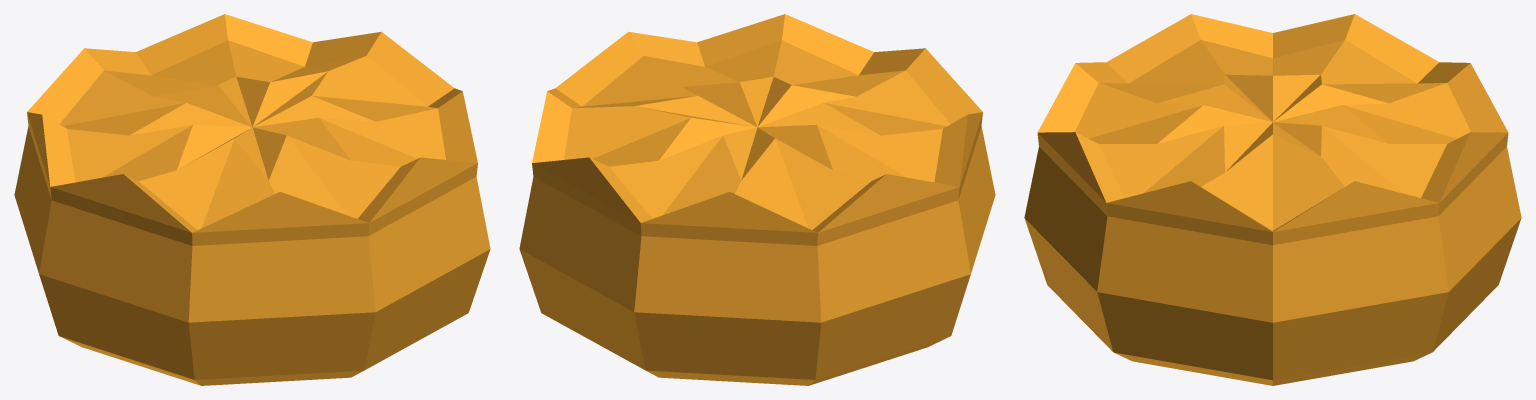
File: SM_Pie_Meat.fbx
The picture shows the model from 3 angles, left to right: view 1: azimuth 30°, elevation 25°; view 2: azimuth 150°, elevation 25°; view 3: azimuth 270°, elevation 25°; orthographic projection.
Parts seen in each view (by area): view 1: pie-meat; view 2: pie-meat; view 3: pie-meat.
Boxes of the visible parts, left/top/right/bottom form: pie-meat: left=14, top=14, right=490, bottom=385; pie-meat: left=519, top=14, right=995, bottom=385; pie-meat: left=1024, top=14, right=1521, bottom=385.
Size of the model in its own units: 0.2825 by 0.1282 by 0.2825.
